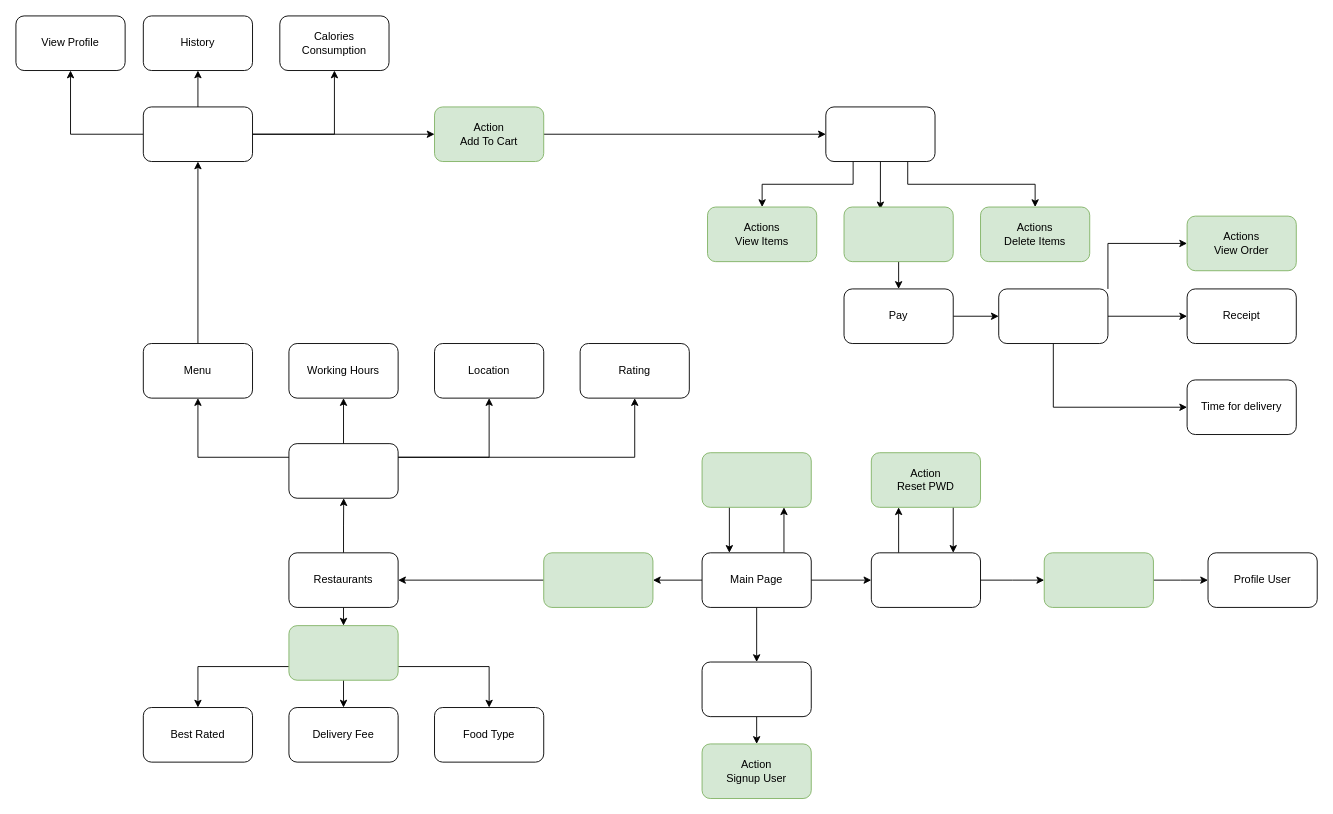
The diagram is 1333 pixels wide and 814 high, and some of its shapes have lost their labels. The box of each missing label's shape, as (x1, y1, x2, y2) in pixels:
Action Filter: (288, 625, 398, 680)
Action Login: (1043, 552, 1153, 607)
Action Logout: (701, 452, 811, 507)
Action Search: (543, 552, 653, 607)
Actions Checkout: (843, 206, 953, 262)
Cart: (825, 106, 935, 162)
Dishes: (142, 106, 253, 162)
Login: (870, 552, 981, 607)
Order: (998, 288, 1108, 344)
Restaurant Profile: (288, 443, 398, 498)
Singup: (701, 661, 811, 717)
